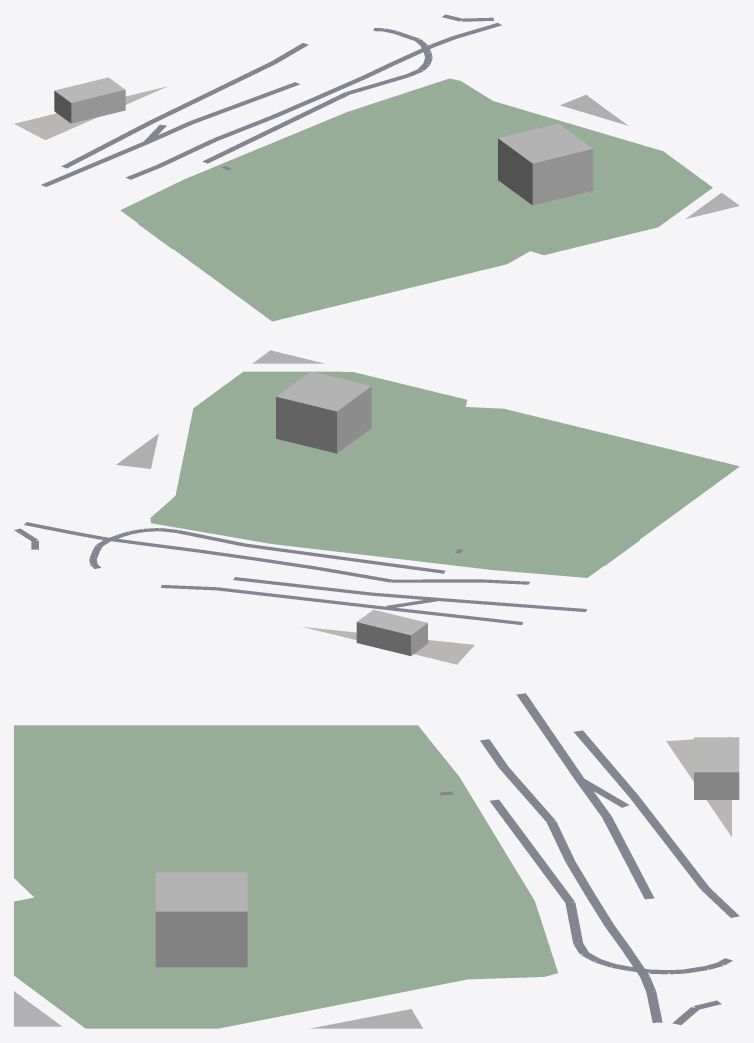
The model's file is 122_115_mid.glb.
3 views of the same model, one above another, from view 1: azimuth 30°, elevation 25°; view 2: azimuth 150°, elevation 25°; view 3: azimuth 270°, elevation 25° (orthographic). The views are drawn at different scales.
Size of the model in its own units: 546 by 46.28 by 506.
